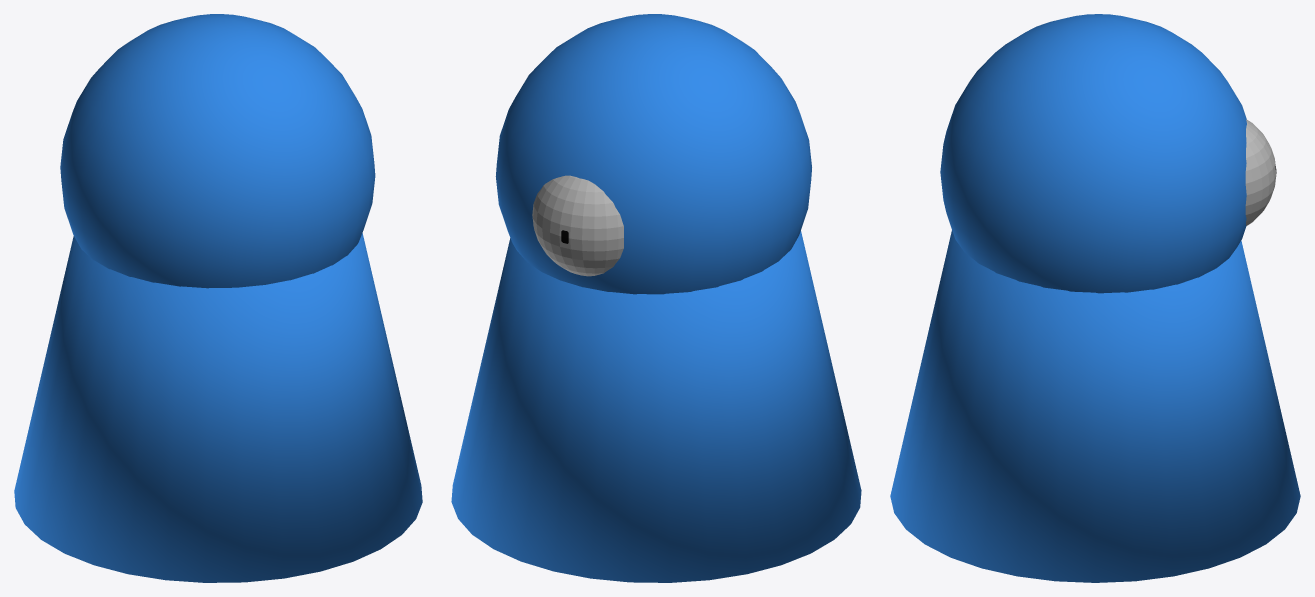
The model's file is ghost.glb.
3 views of the same model, side by side, from view 1: azimuth 30°, elevation 25°; view 2: azimuth 150°, elevation 25°; view 3: azimuth 270°, elevation 25° (orthographic).
Parts seen in each view (by area): view 1: Head.001; view 2: Head.001, Eye white.001; view 3: Head.001, Eye white.001.
Part boxes in pixels (bbox=[...]): Head.001: bbox=[14, 14, 422, 582]; Head.001: bbox=[451, 14, 861, 582]; Eye white.001: bbox=[532, 175, 623, 276]; Head.001: bbox=[890, 14, 1300, 582]; Eye white.001: bbox=[1245, 119, 1276, 225].
Bounding box in the file's own units: 3.01 × 3.79 × 3.01.
